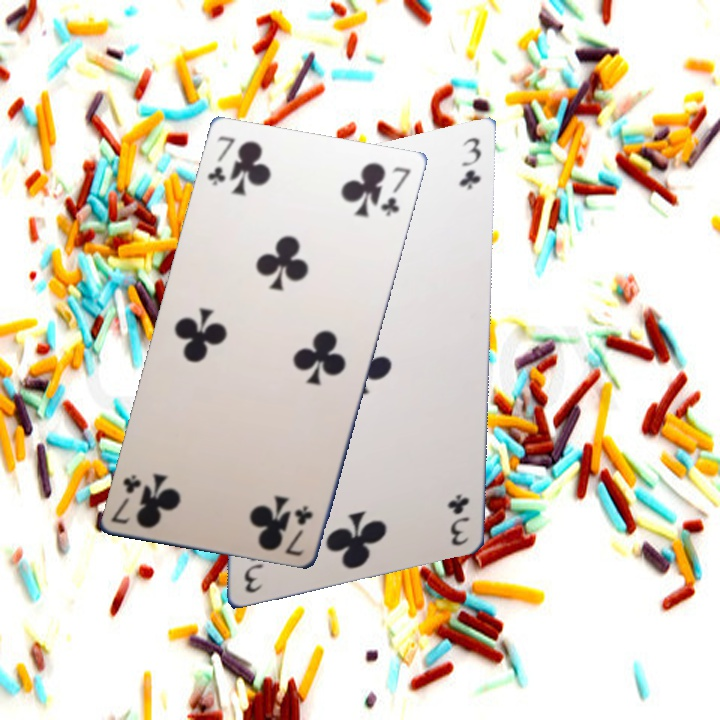3c: (446, 481, 474, 549), (456, 128, 483, 196)
7c: (110, 464, 148, 527), (377, 157, 415, 220), (284, 495, 322, 557), (204, 127, 242, 189)
